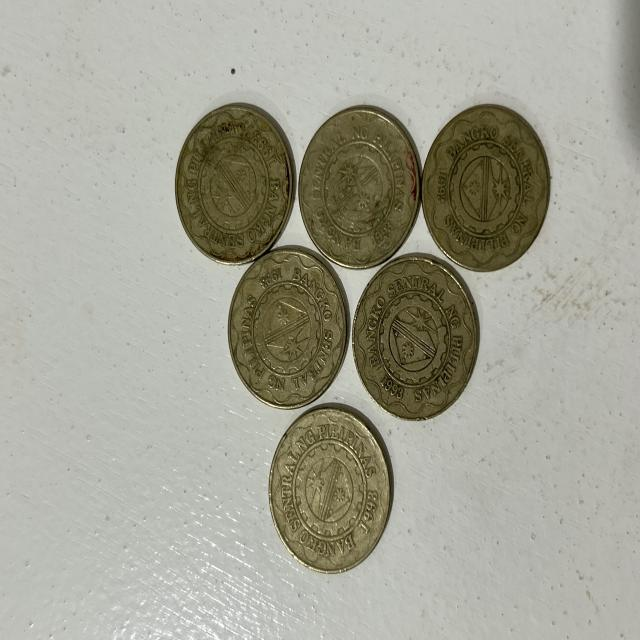5_Old_Back: (419, 101, 548, 282), (350, 254, 472, 434), (267, 404, 391, 576), (168, 104, 298, 266), (298, 111, 419, 264), (226, 244, 350, 390)
